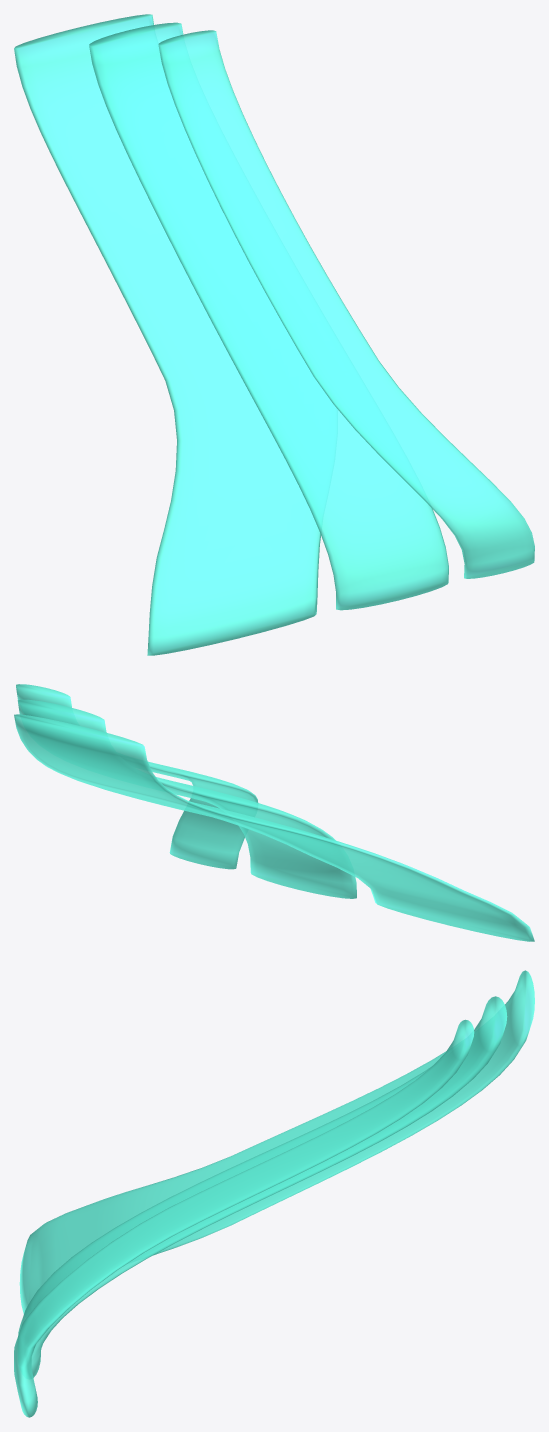
The model's file is recipe-fall-volume.glb.
3 views of the same model, one above another, from view 1: azimuth 30°, elevation 25°; view 2: azimuth 150°, elevation 25°; view 3: azimuth 270°, elevation 25° (orthographic). The views are drawn at different scales.
Visible parts, largest first — view 1: Three broad recipe fall ribbons; view 2: Three broad recipe fall ribbons; view 3: Three broad recipe fall ribbons.
Part boxes in pixels (x1,y1,x2,y2): Three broad recipe fall ribbons: (14, 14, 534, 655); Three broad recipe fall ribbons: (14, 684, 534, 941); Three broad recipe fall ribbons: (14, 970, 534, 1417).
Bounding box in the file's own units: 1.09 × 1 × 1.4.
